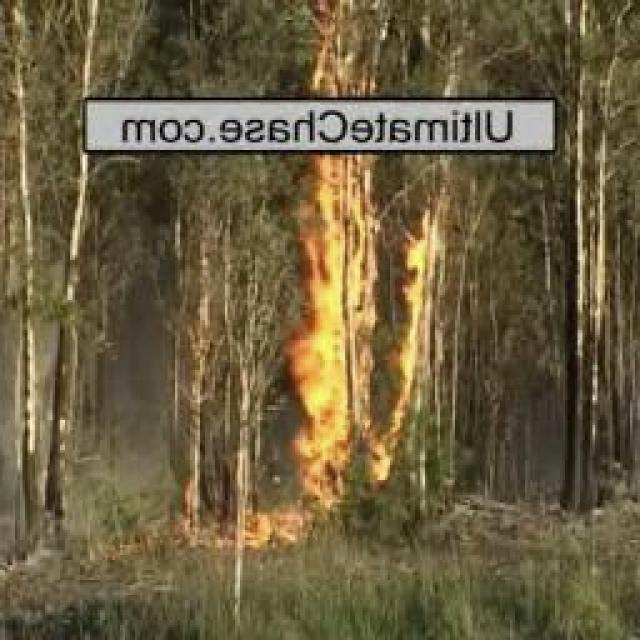Fire: (279, 150, 456, 493), (308, 10, 364, 106), (245, 508, 302, 553)
